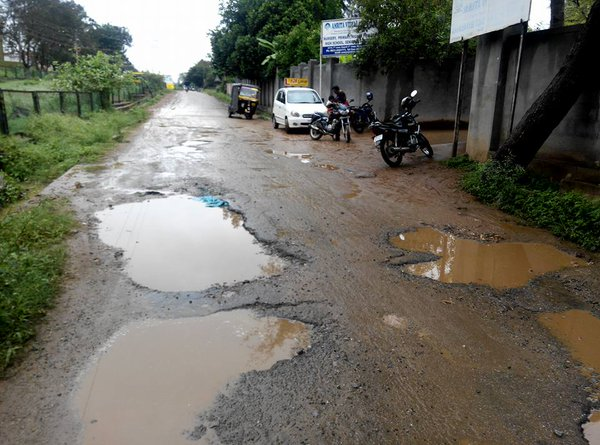pothole: (57, 323, 333, 444), (87, 175, 314, 298), (373, 208, 598, 288)
